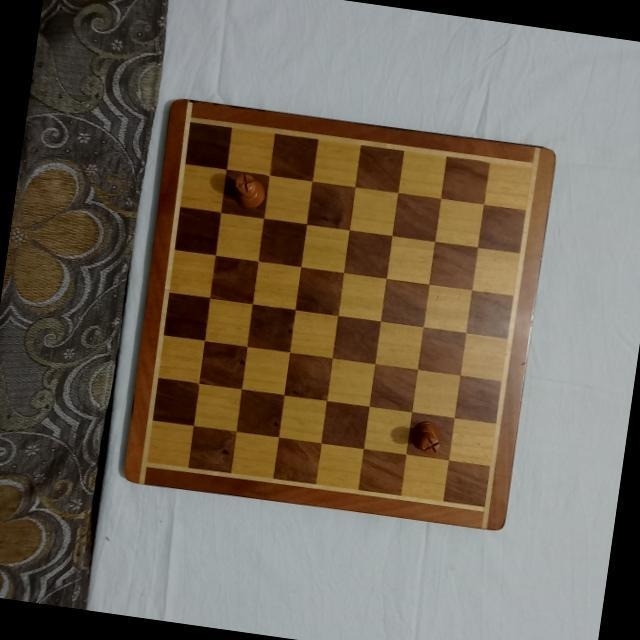white-rook: (228, 172, 267, 212), (407, 417, 445, 455)
